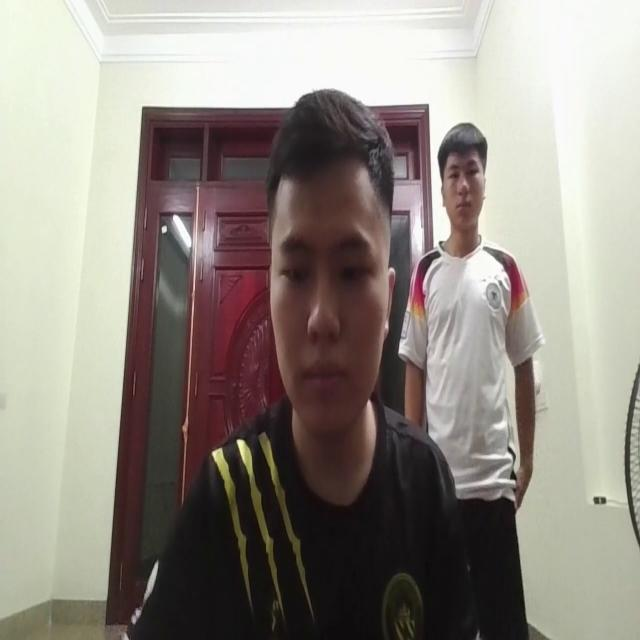extra_person: (414, 105, 534, 537)
student: (184, 92, 445, 640)
